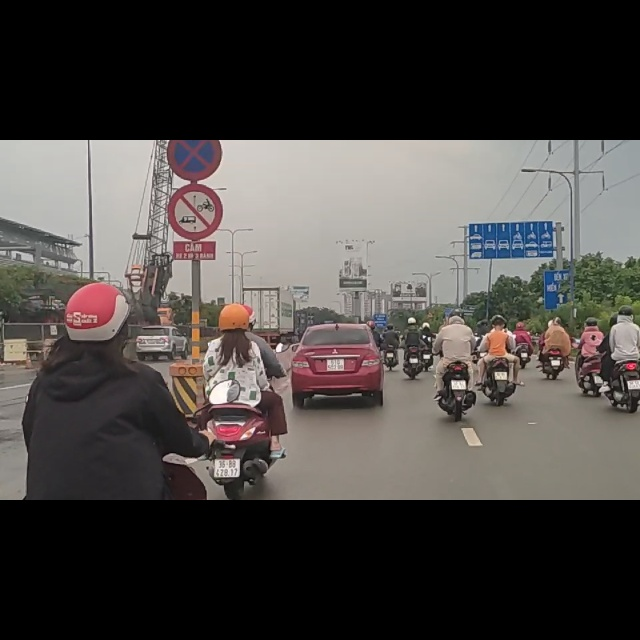bien_chi_dan: (168, 78, 223, 176), (168, 1, 223, 72)
